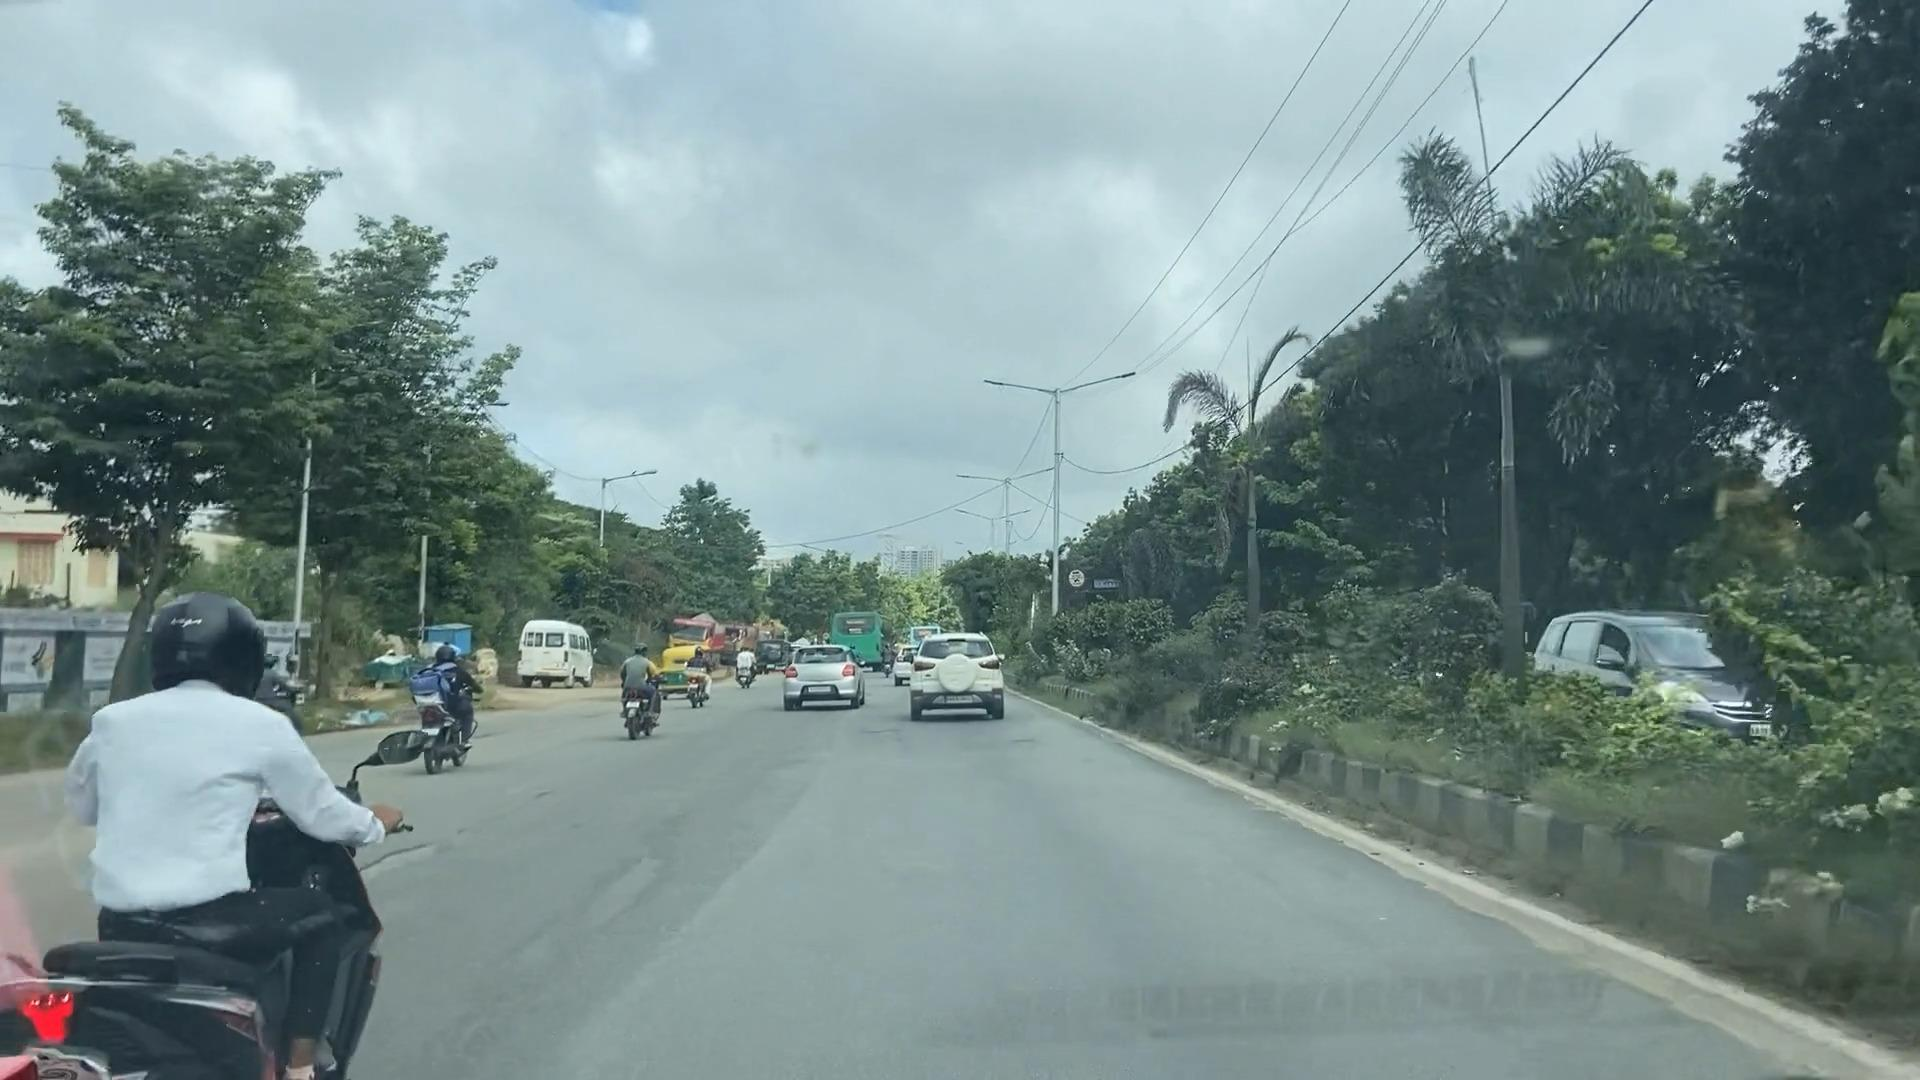HMV: (502, 599, 605, 702)
LMV: (385, 625, 484, 782), (890, 609, 1010, 723), (769, 624, 878, 735), (620, 638, 673, 744)
RoadDamages: (320, 814, 496, 889)
